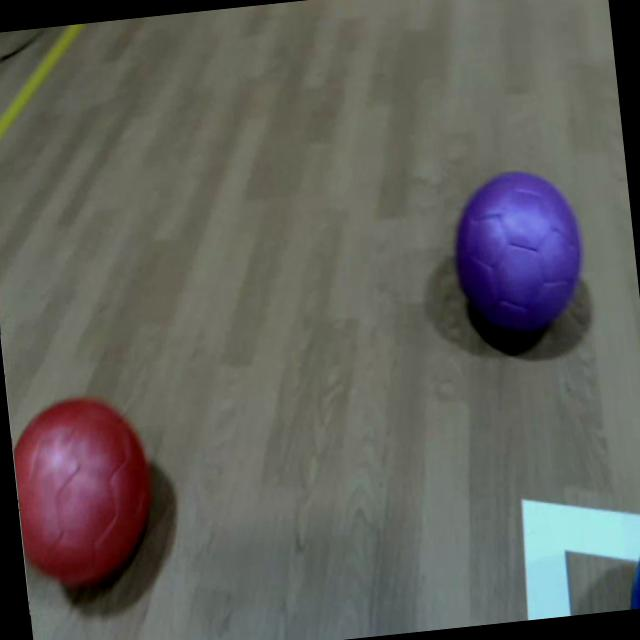purple_ball: (446, 165, 590, 340)
red_ball: (7, 390, 162, 600)
